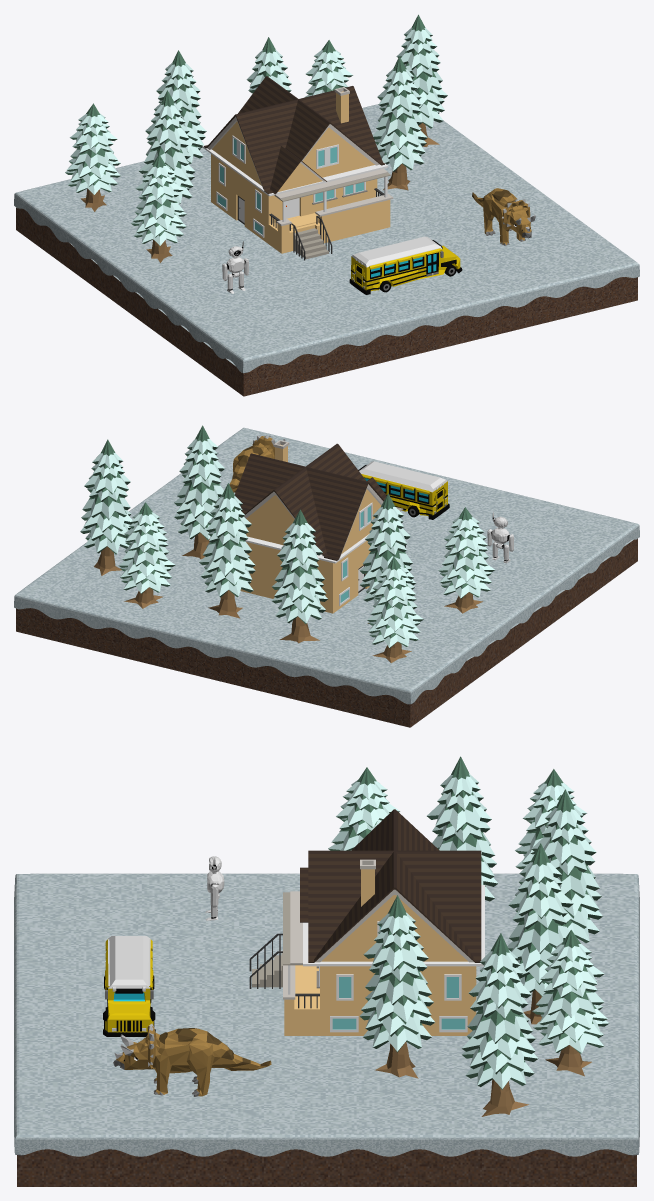
The picture shows the model from 3 angles, top to bottom: view 1: azimuth 30°, elevation 25°; view 2: azimuth 150°, elevation 25°; view 3: azimuth 270°, elevation 25°; orthographic projection. The views are drawn at different scales.
Visible parts, largest first — view 1: Cube.003, Cube.235, VEHICLES_SCHOOL_BUS, ANIMAL_Triceratops, OBJRANDOM_PLATZEEBOT; view 2: Cube.003, Cube.235, VEHICLES_SCHOOL_BUS, ANIMAL_Triceratops, OBJRANDOM_PLATZEEBOT; view 3: Cube.003, Cube.235, ANIMAL_Triceratops, VEHICLES_SCHOOL_BUS, OBJRANDOM_PLATZEEBOT.
Boxes of the visible parts, x1,y1,x2,y2 form: Cube.003: (14,14,639,396); Cube.235: (202,76,393,260); VEHICLES_SCHOOL_BUS: (349,236,462,294); ANIMAL_Triceratops: (472,188,535,245); OBJRANDOM_PLATZEEBOT: (222,241,248,293); Cube.003: (14,425,639,727); Cube.235: (235,440,405,613); VEHICLES_SCHOOL_BUS: (358,461,449,519); ANIMAL_Triceratops: (229,435,285,492); OBJRANDOM_PLATZEEBOT: (487,512,513,563); Cube.003: (14,756,639,1186); Cube.235: (249,809,484,1035); ANIMAL_Triceratops: (113,1023,271,1096); VEHICLES_SCHOOL_BUS: (103,936,155,1036); OBJRANDOM_PLATZEEBOT: (205,856,224,920).
Bounding box in the file's own units: 4040 × 1700 × 4040.
Materials: 36 (3 with a texture image).
